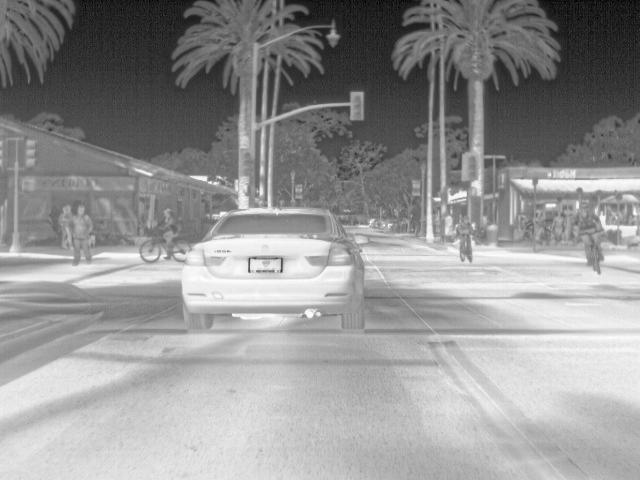car: (182, 206, 367, 333), (382, 218, 395, 232), (373, 218, 387, 230), (368, 216, 380, 228)
dog: (88, 234, 96, 248)
person: (572, 204, 606, 248), (72, 204, 94, 266), (58, 203, 77, 252), (159, 206, 180, 241), (457, 213, 475, 242), (531, 210, 546, 242), (552, 210, 566, 244)
